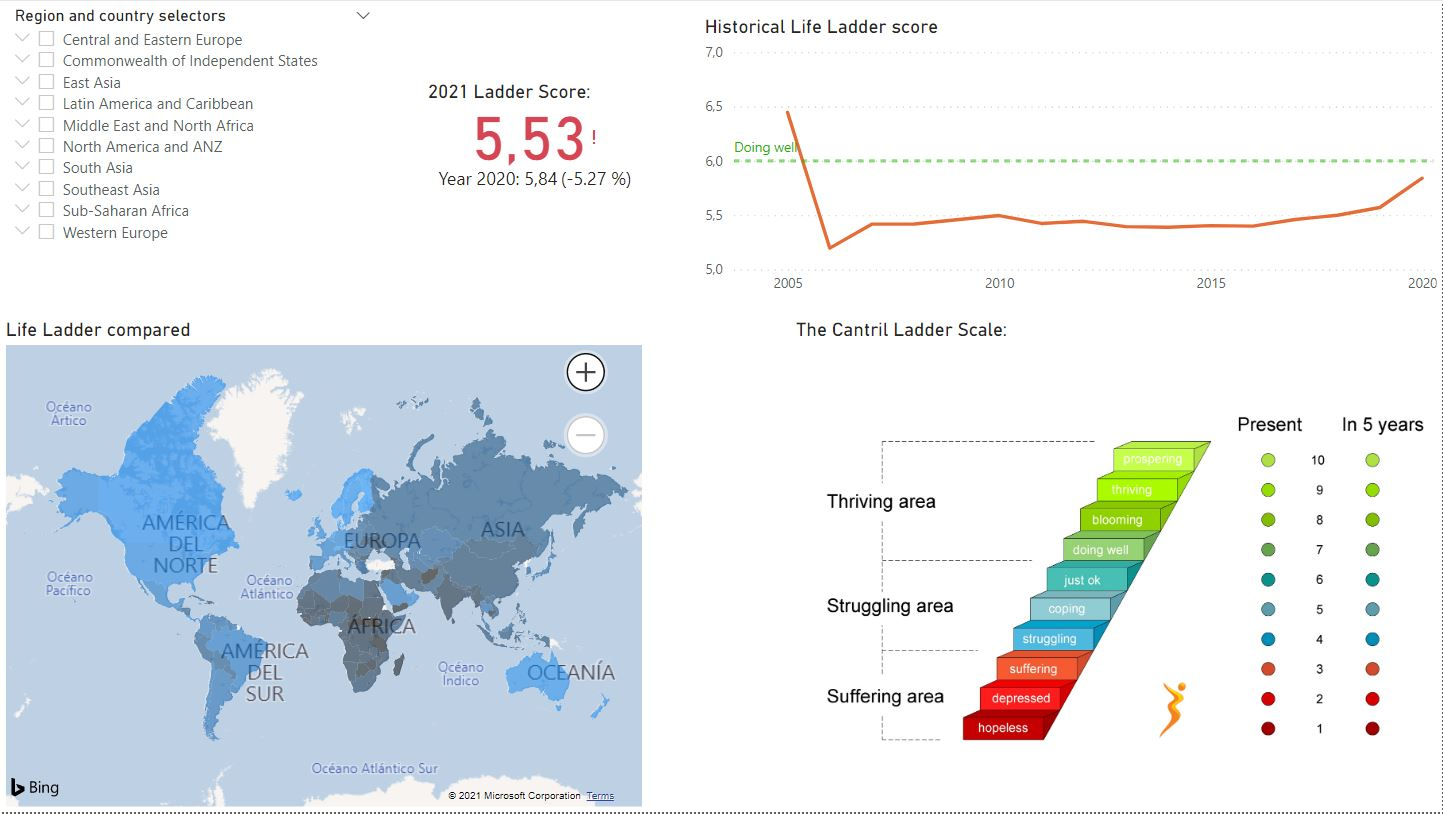

This screenshot's page, from the dashboard's own definition file:
{"tool":"powerbi","page":{"name":"Cantril Ladder","canvas":[1280,720],"ordinal":2},"visuals":[{"type":"slicer","fields":{"Values":["country-region.Regional indicator","country-region.Country name"]},"box":[0,0,341.3,281],"z":0},{"type":"filledMap","title":"Life Ladder compared","fields":{"Category":["world-happiness-report.Country name"]},"box":[0,281.4,575.3,438.6],"z":1000},{"type":"lineChart","title":"Historical Life Ladder score","fields":{"Category":["Indexes Complete.year"],"Y":["Avg(Indexes Complete.Life Ladder)"]},"box":[620.6,12.4,659.6,255.7],"z":2000},{"type":"image","title":"The Cantril Ladder Scale:","box":[701.4,281.4,578.8,438.6],"z":3000},{"type":"kpi","title":"2021 Ladder Score:","fields":{"Goal":["Avg(world-happiness-report.Life Ladder)"],"TrendLine":["world-happiness-report.year"],"Indicator":["Avg(world-happiness-report-2021.Ladder score)"]},"box":[374.6,70.1,200.6,114.5],"z":4000}]}

Visuals, with their boxes in screenshot pixels (x1, y1, x2, y2), scaled from the page's 1280x720 canvas onto the 1443x814 screenshot:
slicer - country-region.Regional indicator x country-region.Country name: <box>0,0,385,318</box>
"Life Ladder compared" filledMap: <box>0,318,649,813</box>
"Historical Life Ladder score" lineChart: <box>700,14,1442,303</box>
"The Cantril Ladder Scale:" image: <box>791,318,1442,813</box>
"2021 Ladder Score:" kpi: <box>422,79,648,209</box>
